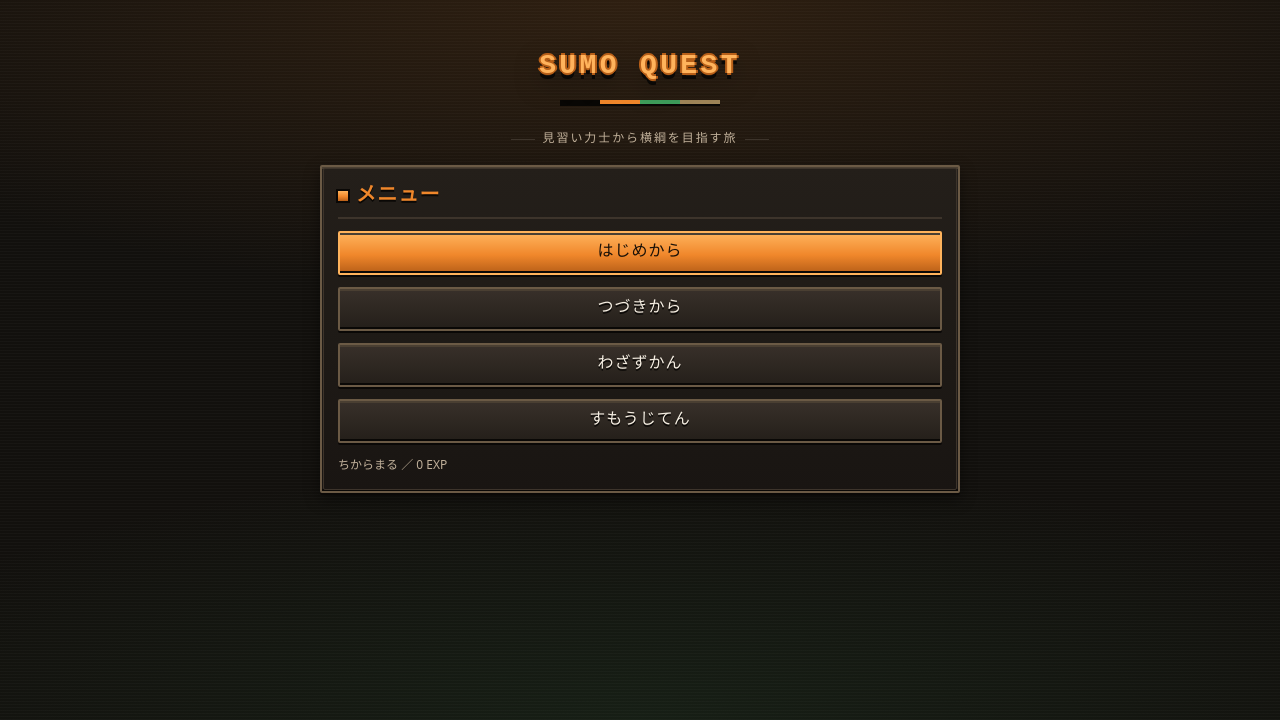
Test: タイトル画面 › セーブがある状態ではじめからを選ぶと上書き確認が出る
Click the button "はじめから". click: (640, 253)
box: x1=338 y1=231 x2=942 y2=275
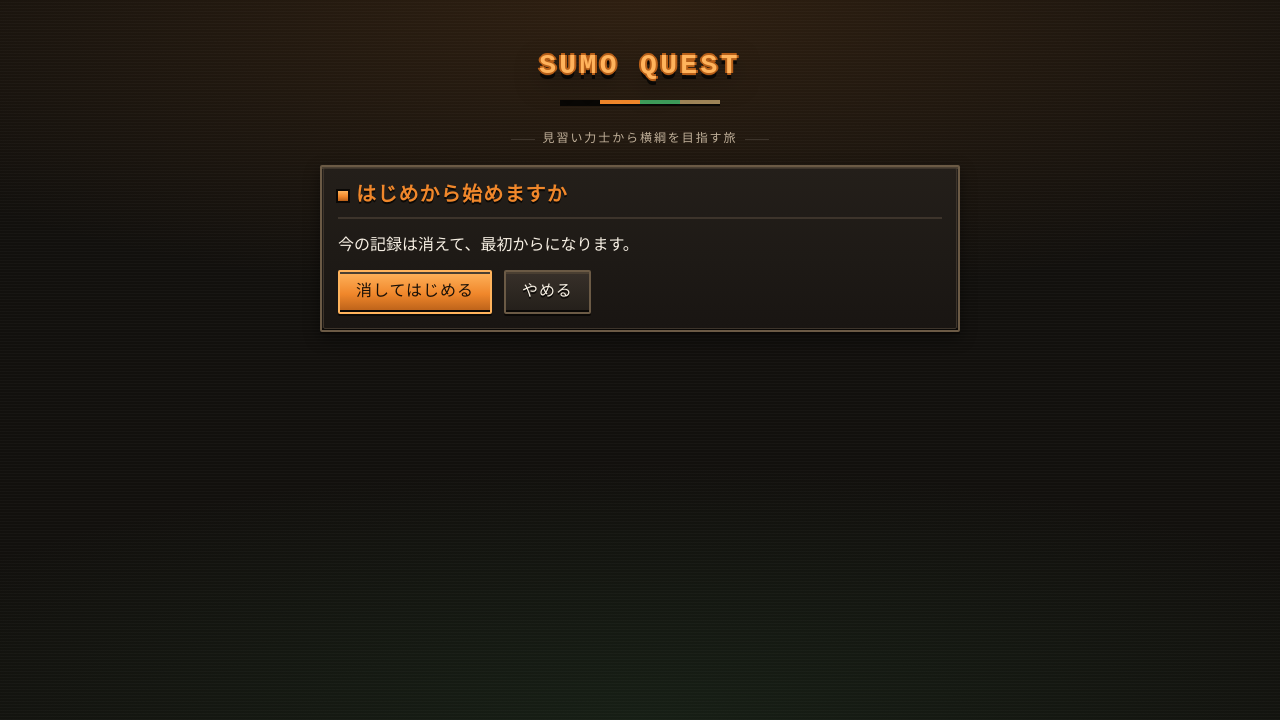
Result: the element "はじめから始めますか" is shown at x1=320 y1=165 x2=960 y2=332
